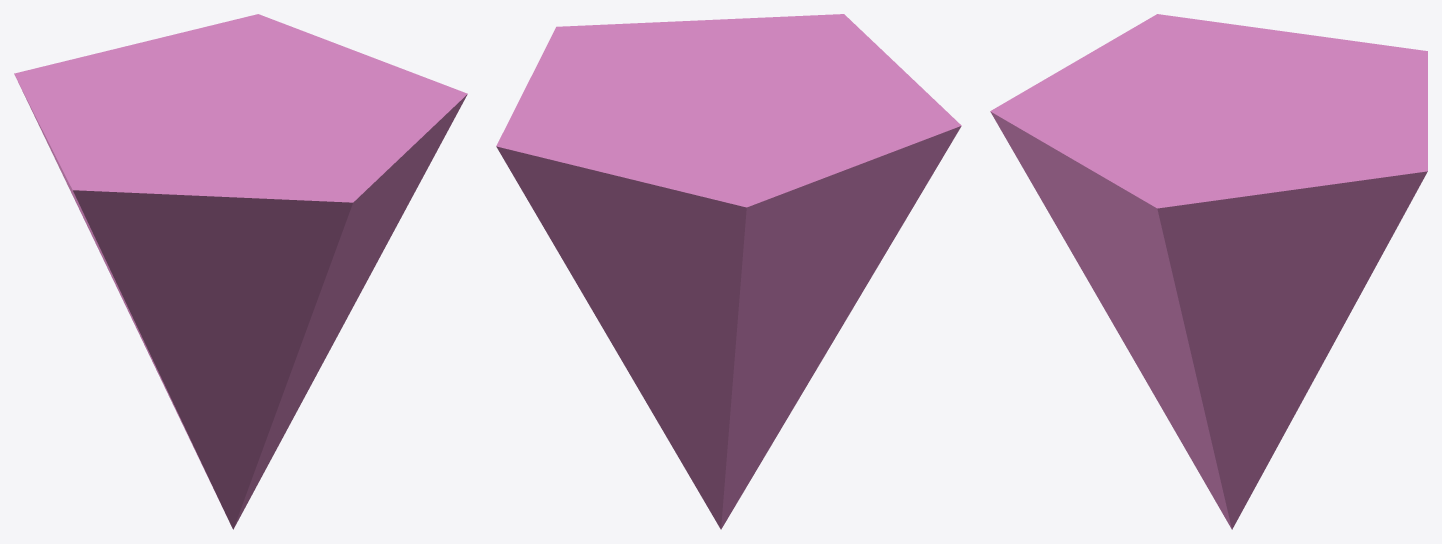
File: asset.glb
3 renders of one model, left to right at view 1: azimuth 30°, elevation 25°; view 2: azimuth 150°, elevation 25°; view 3: azimuth 270°, elevation 25°, orthographic. The views are drawn at different scales.
Parts seen in each view (by area): view 1: Cone; view 2: Cone; view 3: Cone.
Part boxes in pixels (bbox=[...]): Cone: bbox=[14, 14, 467, 529]; Cone: bbox=[496, 14, 961, 529]; Cone: bbox=[990, 14, 1427, 529].
Size of the model in its own units: 3.27 by 3.28 by 3.11.
